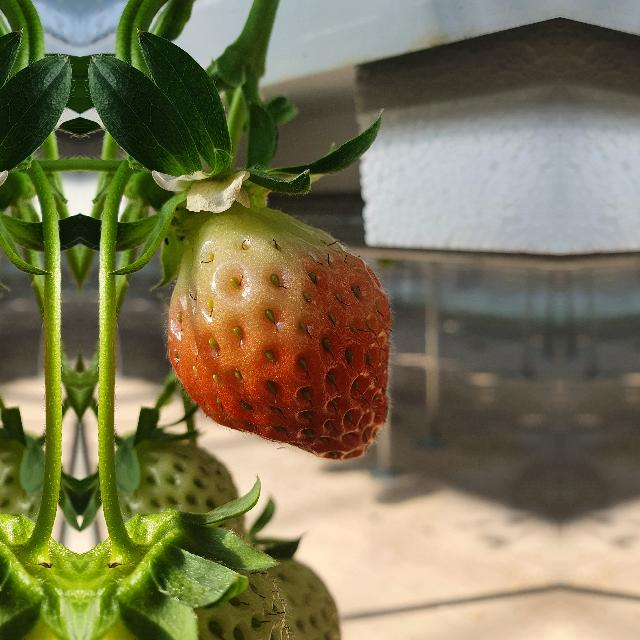Health_75: (168, 207, 390, 459)
